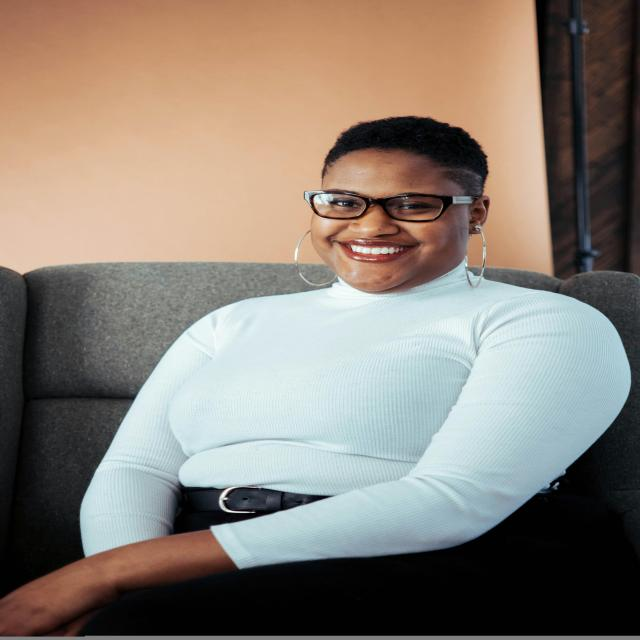human: (59, 117, 640, 639)
